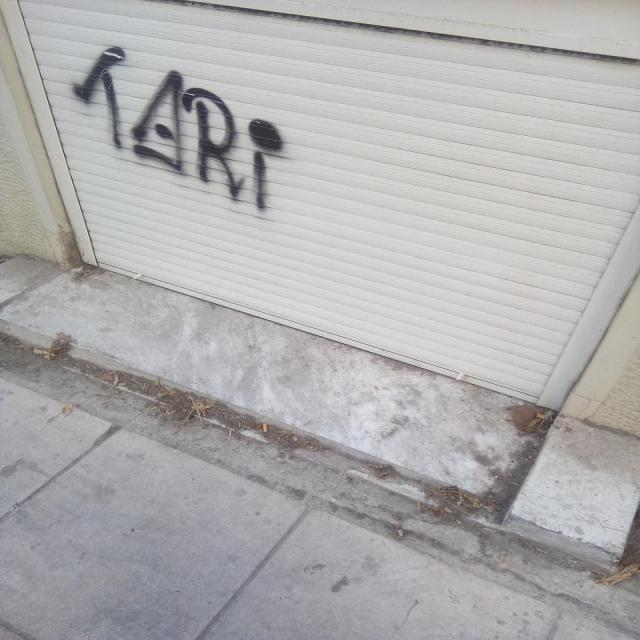nonspitting: (71, 44, 285, 210)
